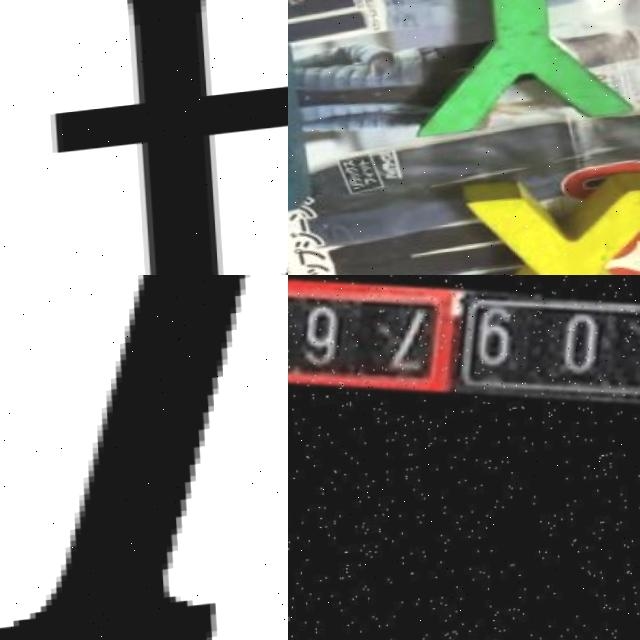0: (555, 316, 602, 386)
6: (295, 301, 348, 380)
7: (384, 311, 431, 383)
9: (467, 307, 521, 382)
I: (0, 275, 244, 640)
X: (445, 170, 640, 275)
Y: (392, 0, 626, 142)
